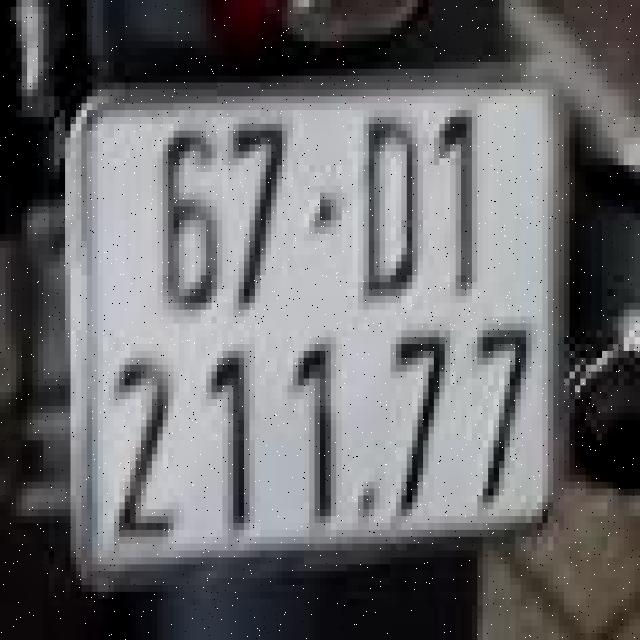1: (282, 324, 358, 550), (204, 334, 268, 547), (431, 96, 491, 310)
2: (95, 313, 187, 561)
6: (157, 114, 228, 313)
7: (464, 327, 540, 519), (228, 100, 293, 306), (388, 324, 453, 516)
D: (334, 86, 431, 306)
